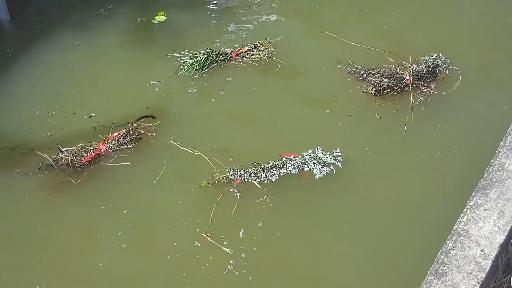leaf: (133, 5, 169, 29)
twig: (168, 136, 349, 253), (317, 30, 464, 132), (30, 113, 164, 194), (162, 37, 298, 79)
